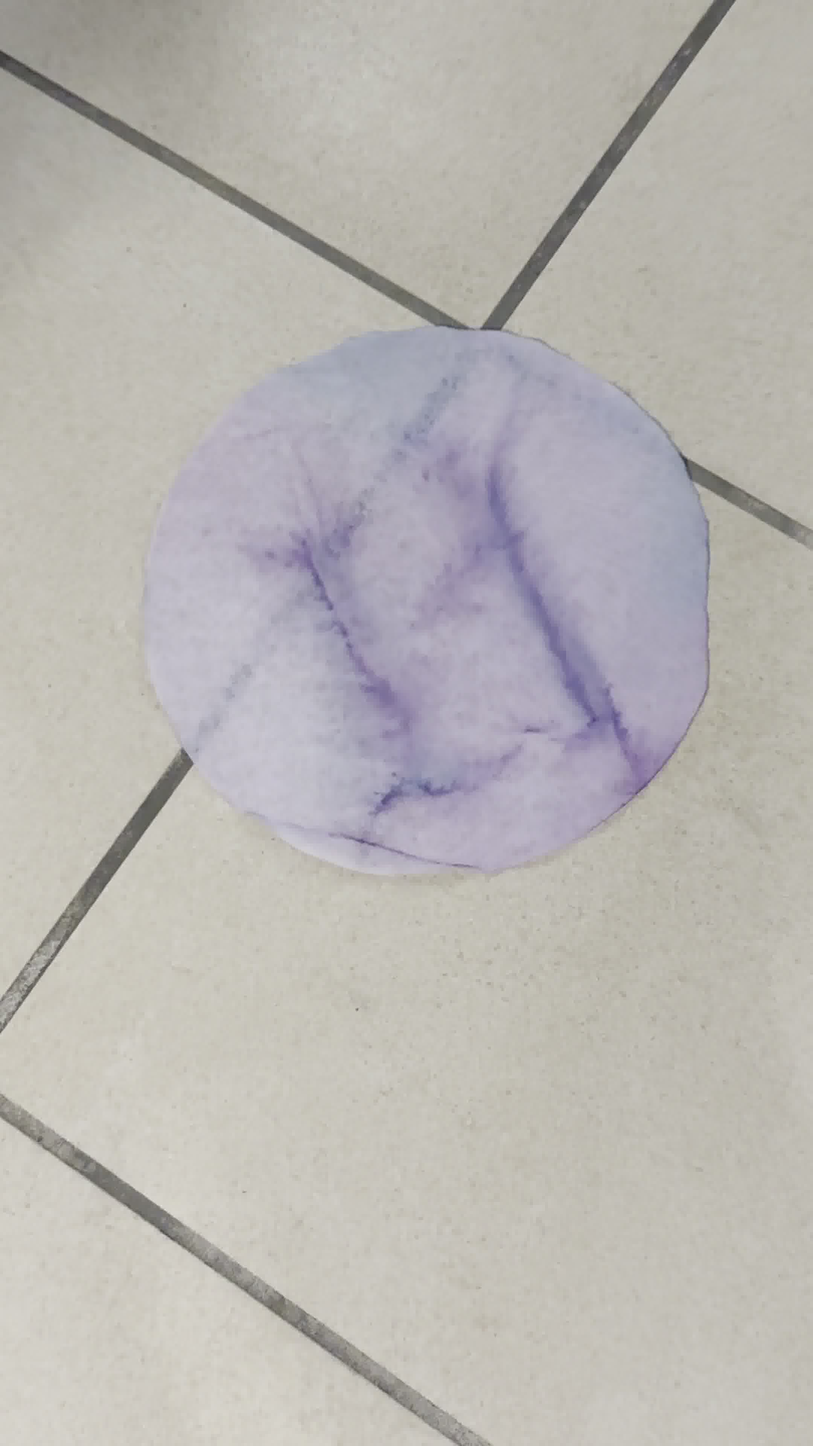Target: (140, 328, 712, 876)
